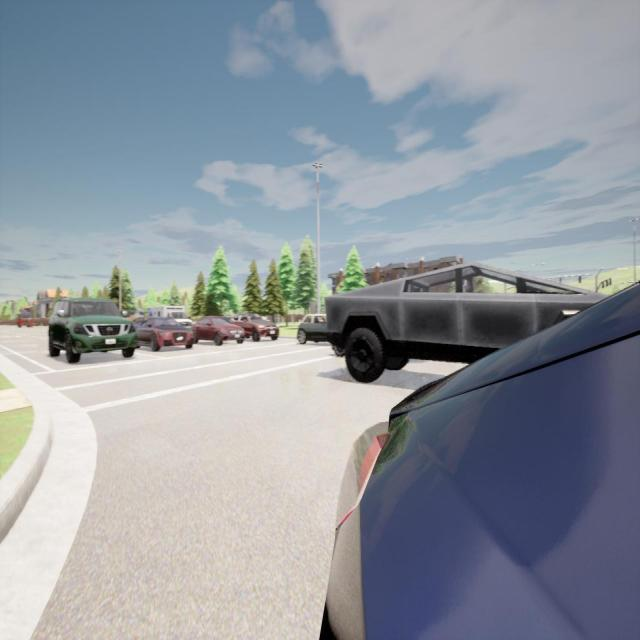Vehicle: (314, 282, 640, 640), (326, 263, 613, 386), (48, 298, 136, 364), (137, 318, 190, 352), (190, 316, 246, 344), (230, 314, 279, 341), (297, 314, 327, 345), (147, 306, 185, 318), (17, 312, 34, 328)
